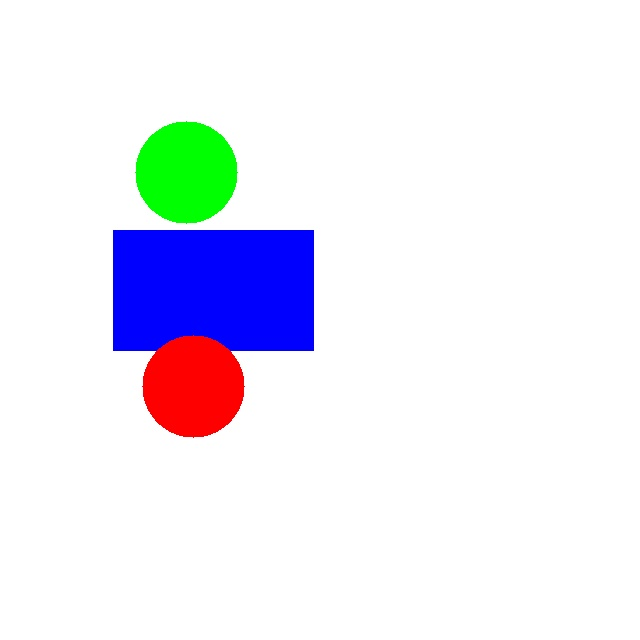cartao: (113, 230, 313, 350)
rosca_externa: (135, 121, 237, 223)
rosca_interna: (142, 335, 244, 437)
